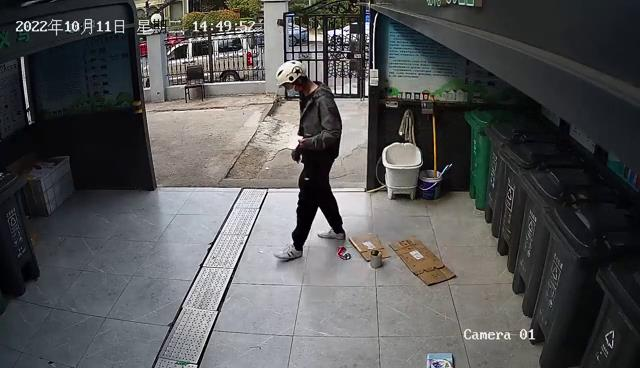lvzhipin: (368, 247, 385, 272), (335, 243, 352, 262)
person: (270, 57, 348, 264)
zhizhipin: (386, 233, 461, 291), (348, 227, 393, 264)
